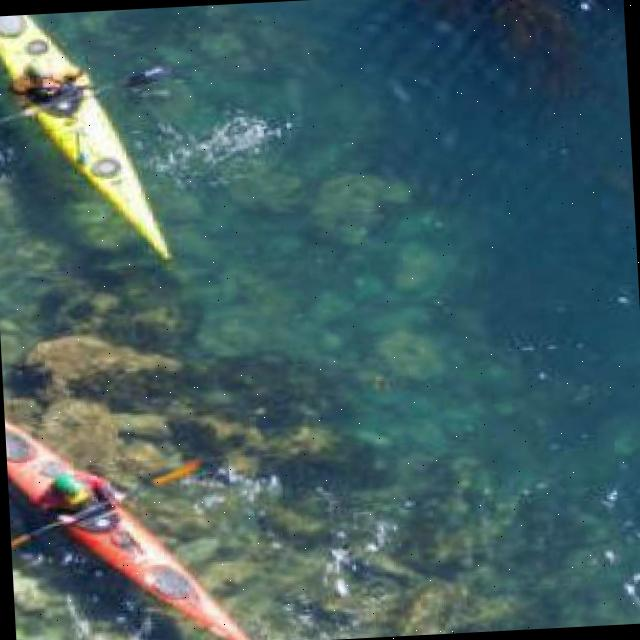kayak: (5, 416, 255, 640), (0, 15, 171, 255)
